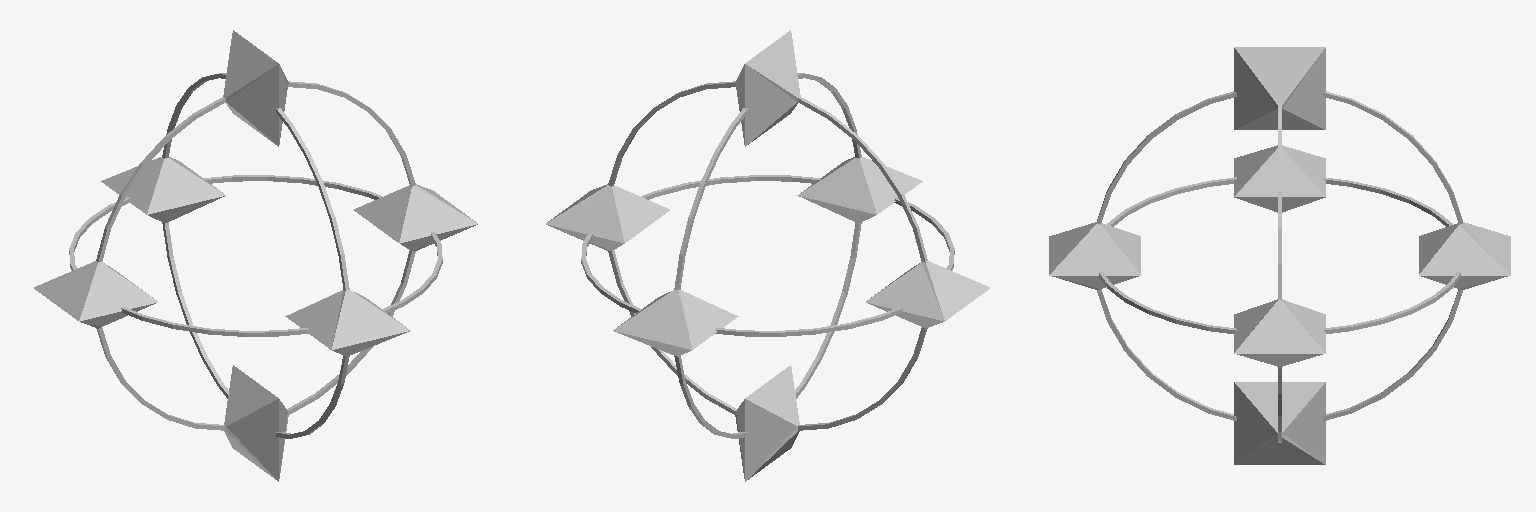
File: notes.obj
The picture shows the model from 3 angles: view 1: azimuth 30°, elevation 25°; view 2: azimuth 150°, elevation 25°; view 3: azimuth 270°, elevation 25°; orthographic projection.
Parts seen in each view (by area): view 1: 円; view 2: 円; view 3: 円.
Part boxes in pixels (bbox=[...]): 円: bbox=[34, 30, 477, 481]; 円: bbox=[546, 30, 989, 481]; 円: bbox=[1049, 47, 1510, 464].
Size of the model in its own units: 2.5 by 2.5 by 2.5.